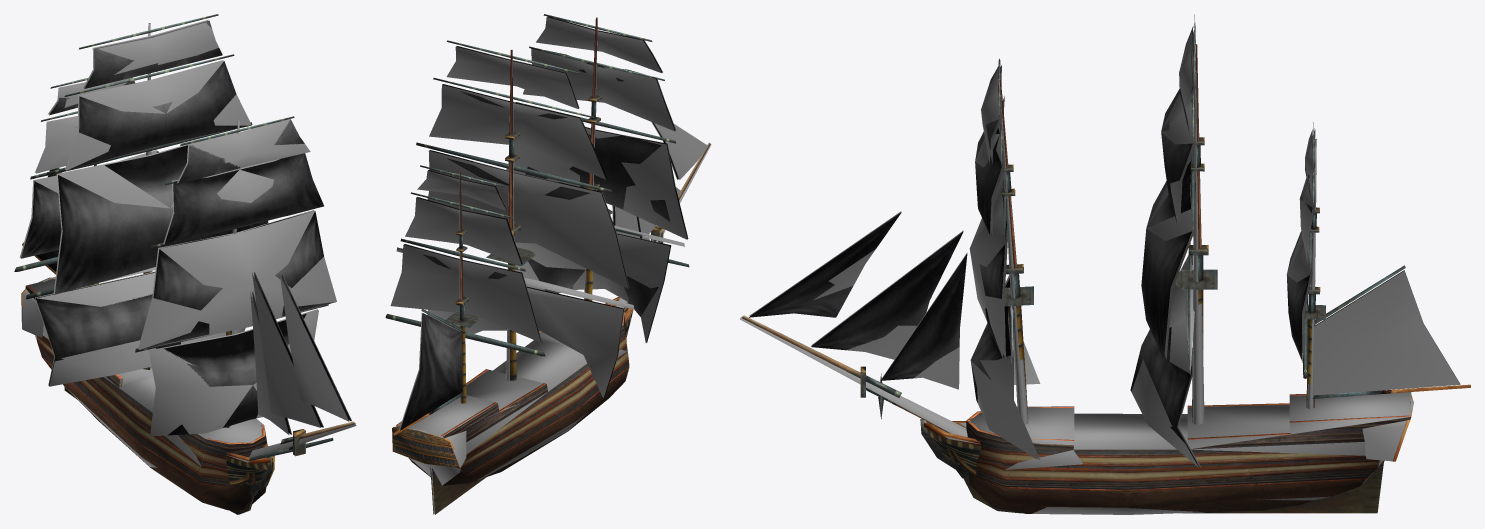
Rendered from F_Monster_030_m.fbx.
3 renders of one model, left to right at view 1: azimuth 30°, elevation 25°; view 2: azimuth 150°, elevation 25°; view 3: azimuth 270°, elevation 25°, orthographic. The views are drawn at different scales.
Parts seen in each view (by area): view 1: F_Ship_FakeShadow, F_Ship_Sail, F_Ship; view 2: F_Ship_FakeShadow, F_Ship, F_Ship_Sail; view 3: F_Ship_FakeShadow, F_Ship, F_Ship_Sail.
Part boxes in pixels (x1,y1,x2,y2): F_Ship_FakeShadow: (19,20,356,510); F_Ship_Sail: (21,20,351,435); F_Ship: (14,14,355,514); F_Ship_FakeShadow: (390,17,711,514); F_Ship: (385,14,710,514); F_Ship_Sail: (400,16,688,430); F_Ship_FakeShadow: (740,26,1460,514); F_Ship: (742,14,1470,513); F_Ship_Sail: (749,26,1459,467).
Size of the model in its own units: 0.4618 by 0.7547 by 1.07.
3 materials, 2 textured.
